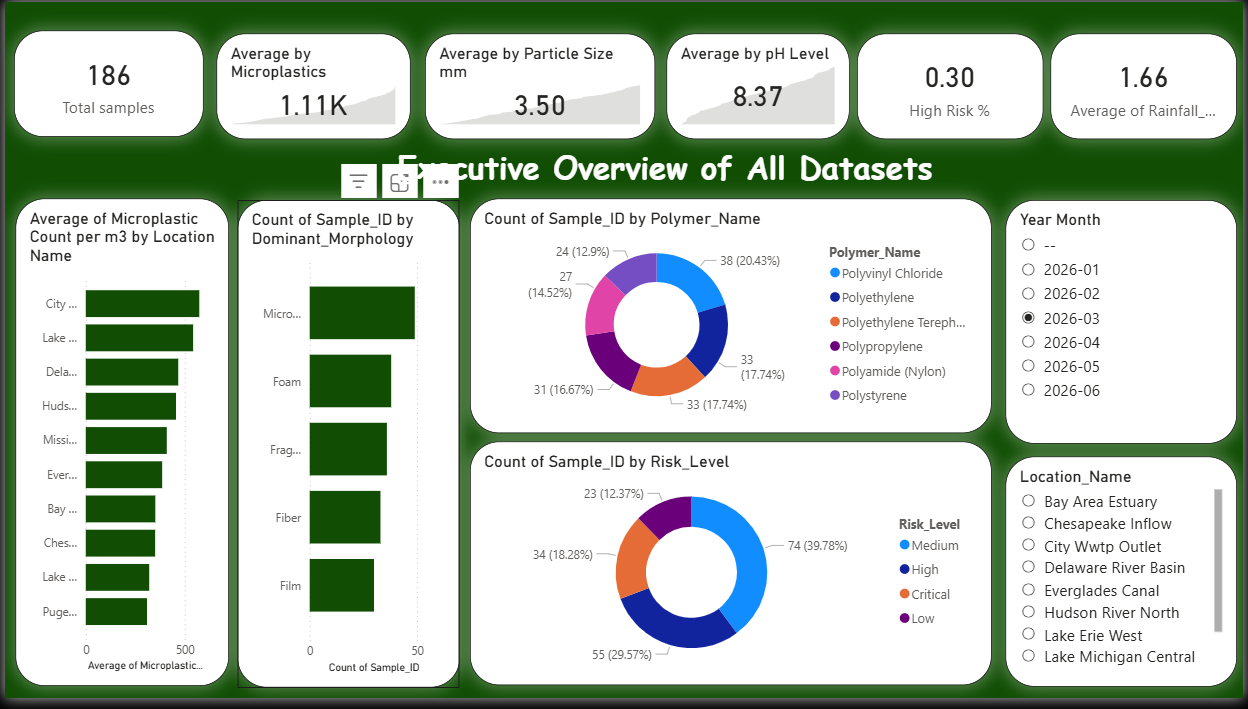

This screenshot's page, from the dashboard's own definition file:
{"tool":"powerbi","page":{"name":"Executive Overview","canvas":[1280,720],"ordinal":1},"visuals":[{"type":"card","fields":{"Values":["CountNonNull(Fact_Water_Samples.Sample_ID)"]},"box":[10,30,196,110],"z":0},{"type":"kpi","fields":{"Indicator":["Avg(Fact_Water_Samples.Microplastic_Count_per_m3)"],"TrendLine":["Fact_Water_Samples.Microplastic_Count_per_m3"]},"box":[219.1,32.9,200.3,109.6],"z":1000},{"type":"kpi","title":"Average  by Particle Size mm","fields":{"Indicator":["Avg(Fact_Water_Samples.Average_Particle_Size_mm)"],"TrendLine":["Fact_Water_Samples.Average_Particle_Size_mm"]},"box":[433.6,32.9,237.9,109.6],"z":2000},{"type":"kpi","title":"Average  by pH Level","fields":{"Indicator":["Avg(Fact_Water_Samples.pH_Level)"],"TrendLine":["Fact_Water_Samples.pH_Level"]},"box":[684,32.9,189.4,109.6],"z":3000},{"type":"card","fields":{"Values":["DIM_Locations.High Risk %"]},"box":[881.2,32.9,192.5,109.6],"z":4000},{"type":"listSlicer","fields":{"Values":["DIM_Locations.Location_Name"]},"box":[1033.9,469.2,239.3,237.8],"z":5000},{"type":"clusteredBarChart","title":"Average of Microplastic Count per m3 by Location Name","fields":{"Category":["DIM_Locations.Location_Name"],"Y":["Avg(Fact_Water_Samples.Microplastic_Count_per_m3)"]},"box":[11,203.5,220.7,504],"z":6000},{"type":"donutChart","fields":{"Category":["Fact_Water_Samples.Risk_Level"],"Y":["CountNonNull(Fact_Water_Samples.Sample_ID)"]},"box":[480.2,455.2,539.6,251.8],"z":7000},{"type":"donutChart","fields":{"Category":["DIM_Polymers.Polymer_Name"],"Y":["CountNonNull(Fact_Water_Samples.Sample_ID)"]},"box":[480.2,203.3,539.6,242.4],"z":8000},{"type":"barChart","fields":{"Category":["Fact_Water_Samples.Dominant_Morphology"],"Y":["CountNonNull(Fact_Water_Samples.Sample_ID)"]},"box":[240,204,230,504],"z":9000},{"type":"card","fields":{"Values":["Avg(DIM_Weather.Rainfall_mm)"]},"box":[1081.6,32.9,192.5,109.6],"z":10000},{"type":"listSlicer","fields":{"Values":["Dim_Date.Year Month"]},"box":[1033.9,204.9,239.3,251.8],"z":11000},{"type":"textbox","box":[381.7,143.3,601.7,60],"z":12000}]}

Visuals, with their boxes in screenshot pixels (x1, y1, x2, y2), scaled from the page's 1280x720 canvas onto the 1248x709 screenshot:
card - CountNonNull(Fact_Water_Samples.Sample_ID): BBox(10, 30, 201, 138)
kpi - Avg(Fact_Water_Samples.Microplastic_Count_per_m3) x Fact_Water_Samples.Microplastic_Count_per_m3: BBox(214, 32, 409, 140)
"Average  by Particle Size mm" kpi: BBox(423, 32, 655, 140)
"Average  by pH Level" kpi: BBox(667, 32, 852, 140)
card - DIM_Locations.High Risk %: BBox(859, 32, 1047, 140)
listSlicer - DIM_Locations.Location_Name: BBox(1008, 462, 1241, 696)
"Average of Microplastic Count per m3 by Location Name" clusteredBarChart: BBox(11, 200, 226, 697)
donutChart - Fact_Water_Samples.Risk_Level x CountNonNull(Fact_Water_Samples.Sample_ID): BBox(468, 448, 994, 696)
donutChart - DIM_Polymers.Polymer_Name x CountNonNull(Fact_Water_Samples.Sample_ID): BBox(468, 200, 994, 439)
barChart - Fact_Water_Samples.Dominant_Morphology x CountNonNull(Fact_Water_Samples.Sample_ID): BBox(234, 201, 458, 697)
card - Avg(DIM_Weather.Rainfall_mm): BBox(1055, 32, 1242, 140)
listSlicer - Dim_Date.Year Month: BBox(1008, 202, 1241, 450)
textbox: BBox(372, 141, 959, 200)
